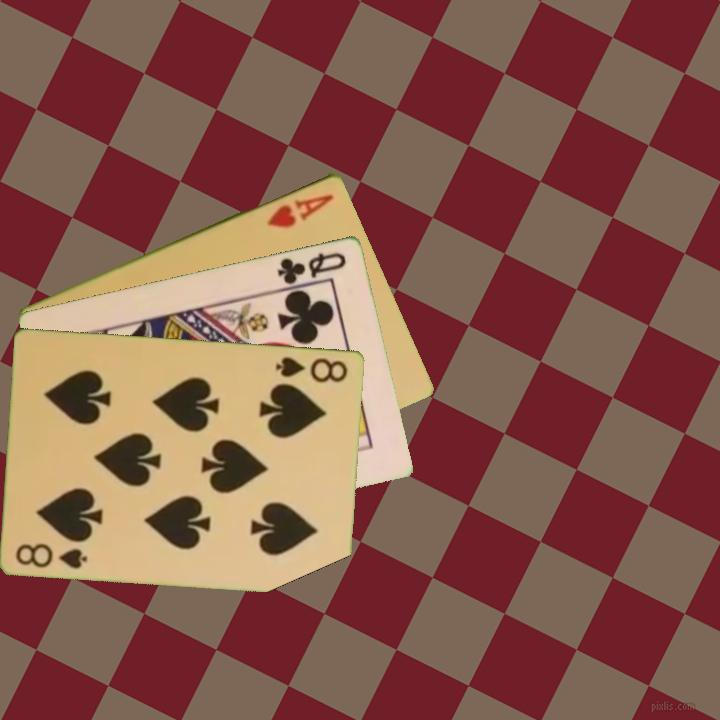8s: (272, 352, 351, 385), (13, 539, 91, 571)
Ah: (263, 190, 337, 231)
Qc: (274, 248, 350, 291)
